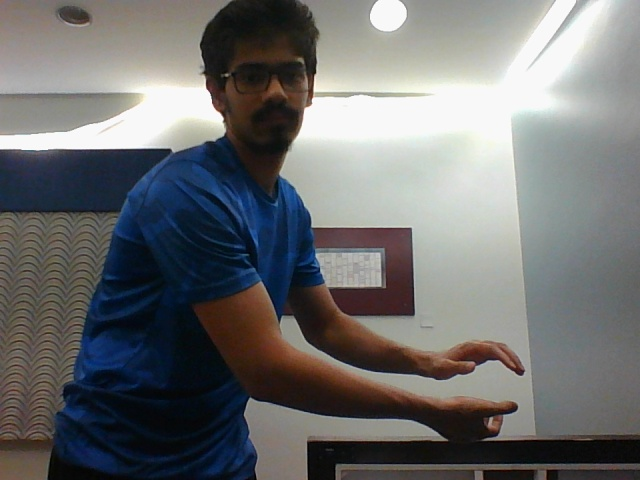charge: (423, 325, 522, 444)
